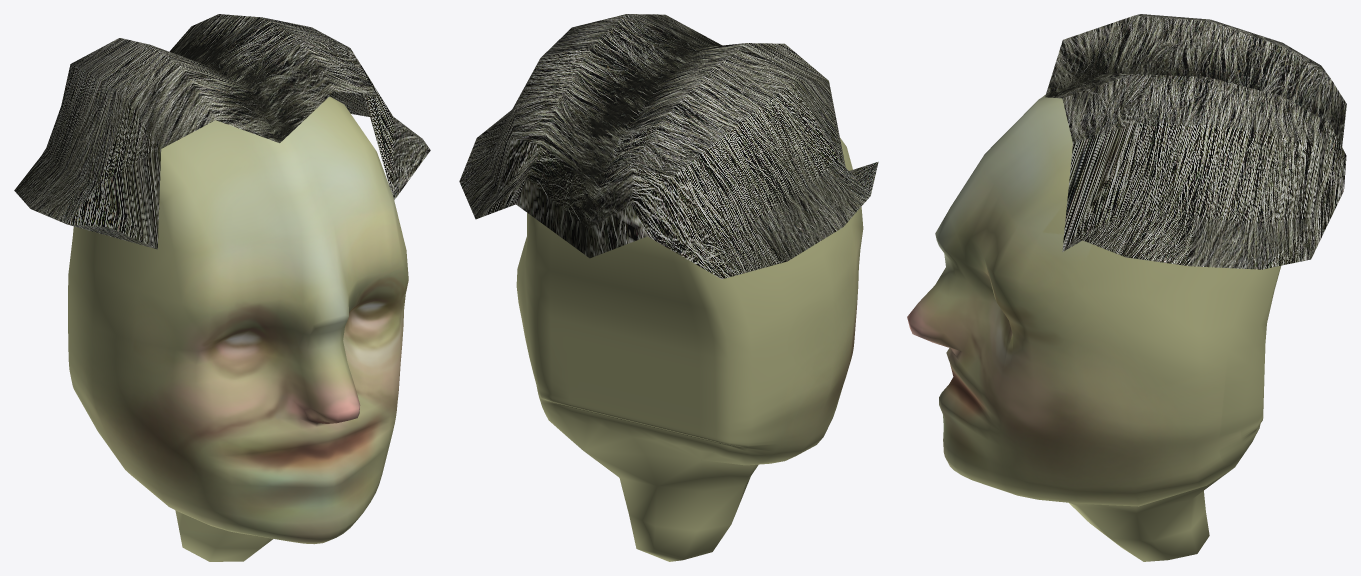
Rendered from SM_A_Ashraf00.fbx.
The picture shows the model from 3 angles, left to right: view 1: azimuth 30°, elevation 25°; view 2: azimuth 150°, elevation 25°; view 3: azimuth 270°, elevation 25°; orthographic projection.
Visible parts, largest first — view 1: SM_A_Ashraf00; view 2: SM_A_Ashraf00; view 3: SM_A_Ashraf00.
Part boxes in pixels (x1,y1,x2,y2): SM_A_Ashraf00: [14, 14, 430, 561]; SM_A_Ashraf00: [459, 14, 878, 561]; SM_A_Ashraf00: [907, 14, 1346, 561].
Bounding box in the file's own units: 39.97 × 53.67 × 41.54.
